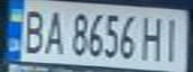5: (103, 10, 124, 60)
6: (118, 11, 142, 61), (84, 9, 106, 58)
8: (66, 8, 90, 57)
A: (42, 6, 69, 55)
B: (18, 4, 48, 54)
H: (139, 12, 169, 62)
I: (157, 14, 187, 62)
